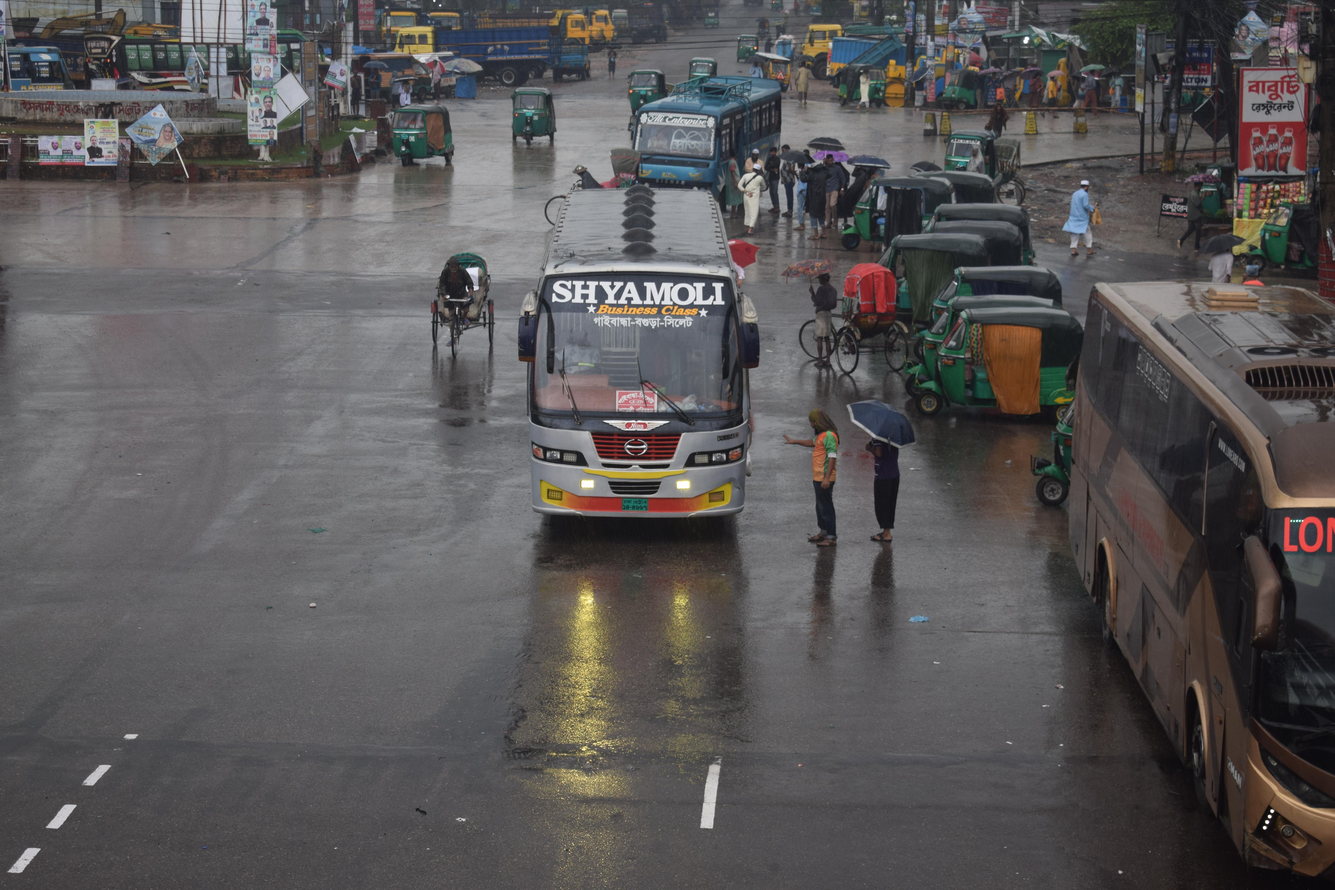Bus: (1017, 241, 1335, 890), (501, 161, 787, 542), (612, 64, 807, 216)
Car: (398, 218, 540, 405), (790, 250, 946, 402)
Truck: (389, 21, 573, 93), (787, 15, 852, 81), (581, 4, 624, 64), (560, 7, 595, 57)
